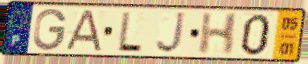0: (239, 13, 273, 57)
A: (61, 9, 104, 53)
G: (32, 7, 69, 52)
H: (196, 12, 241, 56)
J: (154, 11, 188, 56)
L: (115, 10, 145, 54)
